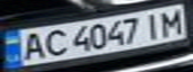0: (87, 20, 109, 51)
4: (69, 23, 93, 53), (106, 17, 127, 47)
7: (121, 15, 145, 44)
A: (15, 29, 48, 62)
C: (39, 27, 69, 57)
I: (139, 10, 166, 39)
M: (154, 6, 190, 36)
